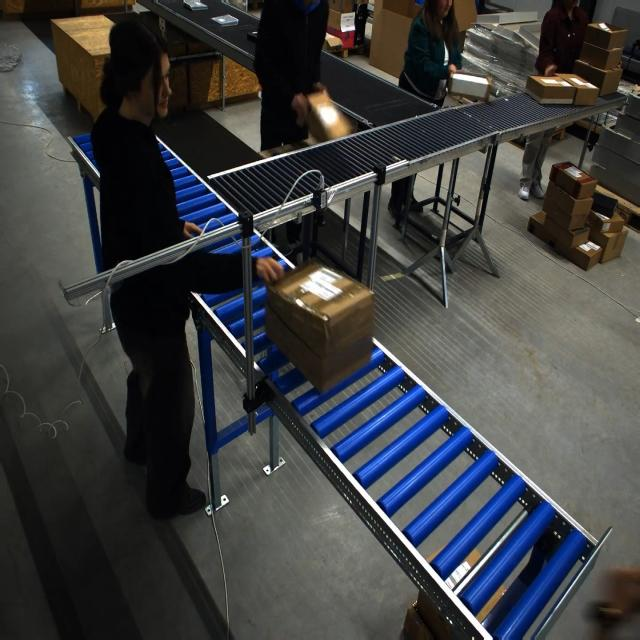box: (265, 261, 359, 391), (303, 89, 345, 145), (524, 75, 576, 106), (447, 72, 491, 103)
product: (210, 14, 239, 27), (183, 0, 208, 11), (247, 31, 258, 43)
